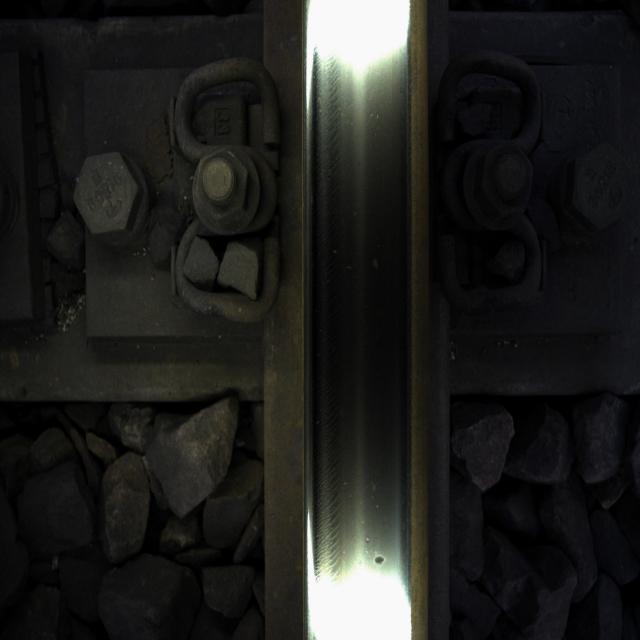break: (318, 52, 394, 564)
